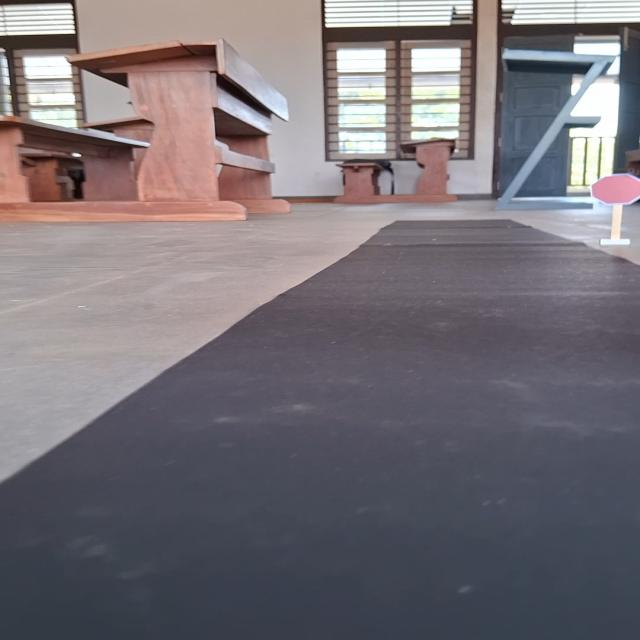Stop: (587, 172, 640, 205)
